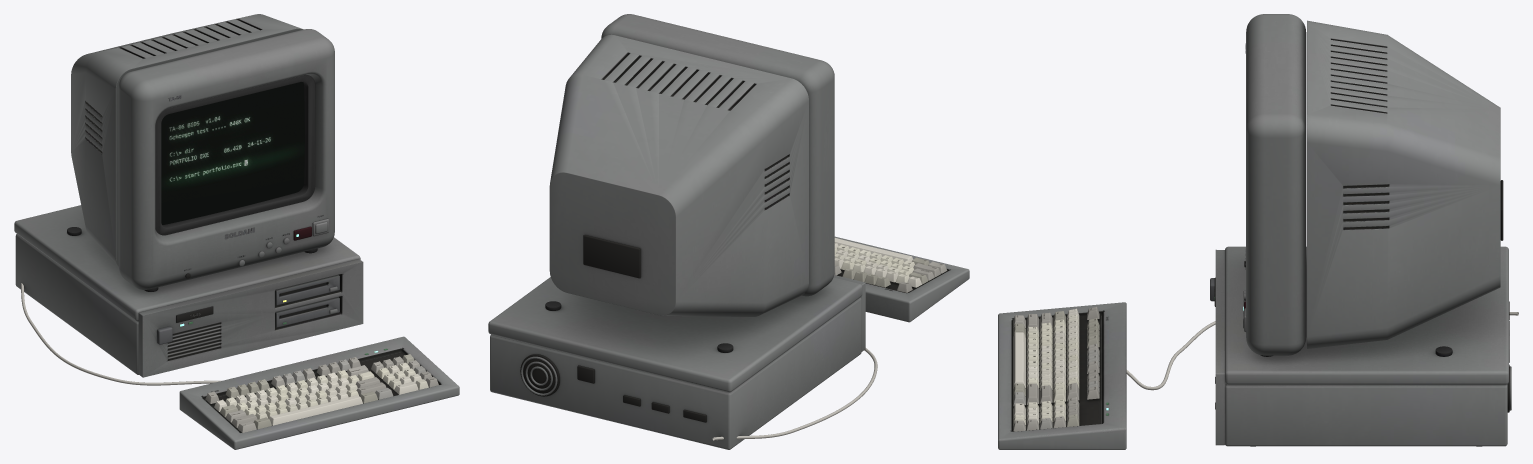
File: retro-computer.glb
3 renders of one model, left to right at view 1: azimuth 30°, elevation 25°; view 2: azimuth 150°, elevation 25°; view 3: azimuth 270°, elevation 25°, orthographic. The views are drawn at different scales.
Visible parts, largest first — view 1: Monitor, Base, Screen, Keys, Keyboard, Cable; view 2: Monitor, Base, Keys, Keyboard, Cable; view 3: Monitor, Base, Keyboard, Keys, Cable.
Boxes of the visible parts, x1,y1,x2,y2 form: Monitor: (67,14,334,291); Base: (14,205,363,377); Screen: (161,82,304,224); Keys: (205,354,438,432); Keyboard: (179,336,459,449); Cable: (21,283,221,385); Monitor: (545,14,834,352); Base: (488,275,865,449); Keys: (834,238,947,292); Keyboard: (834,236,969,322); Cable: (712,348,877,440); Monitor: (1243,14,1503,356); Base: (1210,246,1511,446); Keyboard: (998,302,1126,449); Keys: (1013,306,1099,431); Cable: (1126,312,1518,390).
Size of the model in its own units: 0.4884 by 0.5164 by 0.737.
9 materials, 5 textured.
